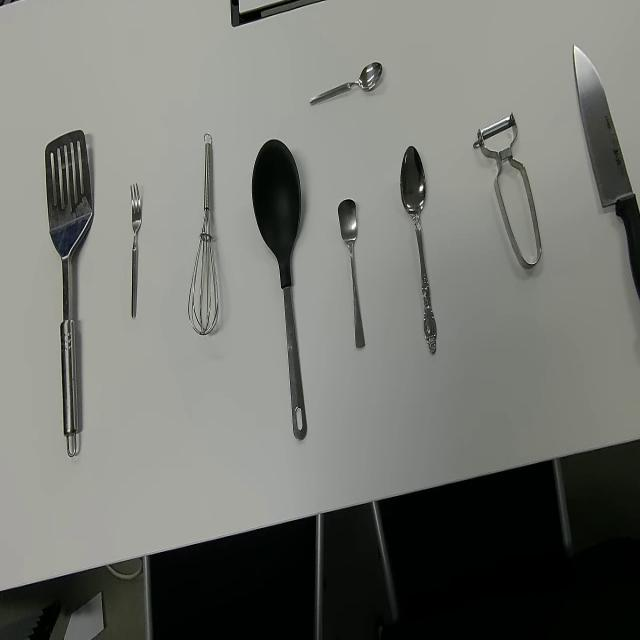Desert-Spoon: (399, 143, 437, 356)
Dinner-Fork: (129, 181, 143, 321)
Kitchen-Knife: (572, 43, 640, 304)
Peeler: (472, 110, 542, 272)
Serving-Spoon: (250, 136, 308, 444), (44, 128, 93, 458)
Tea-Spoon: (337, 198, 366, 350), (308, 59, 384, 109)
Whisk: (188, 132, 219, 337)
